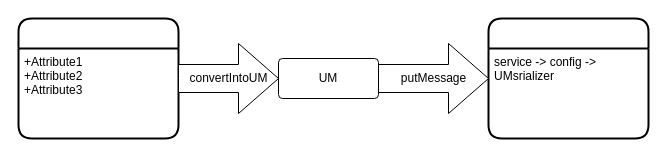
Image size: 666x156. Some labels were removed from this diagram. Here are the shapes that lost their labels. From the top down, the box of each, then its label:
(17, 17, 179, 139): Entity
(487, 17, 649, 139): Kafka
